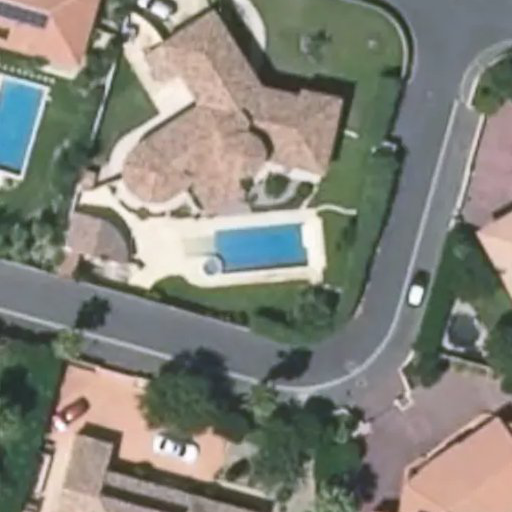pool: (214, 221, 306, 276), (1, 77, 44, 177)
